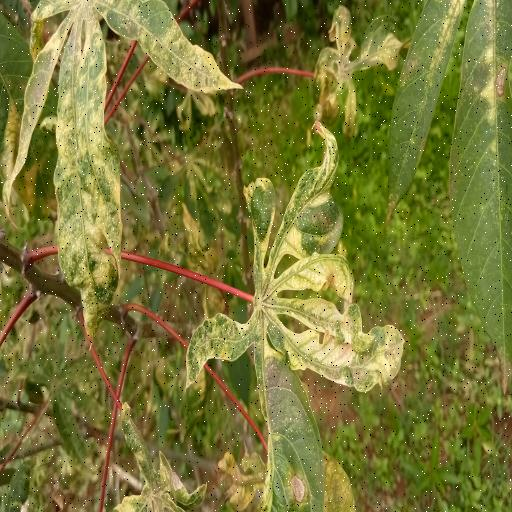Cassava_Bacterial_Disease: (181, 117, 404, 512), (0, 0, 244, 350), (312, 0, 409, 136)
